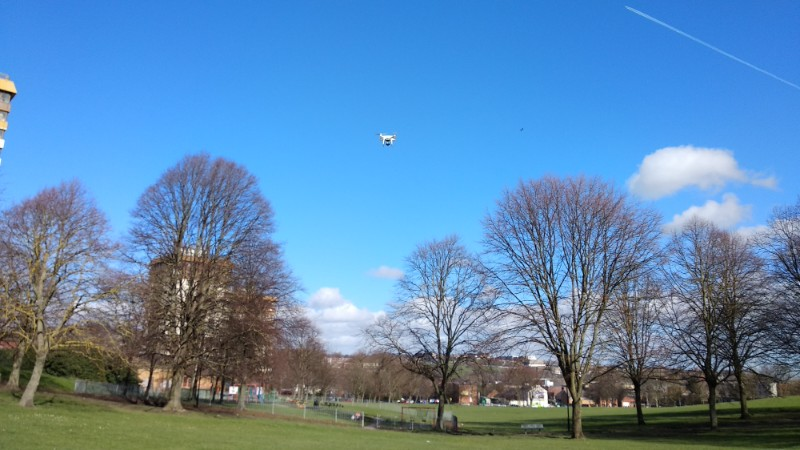drone: (376, 130, 398, 146)
